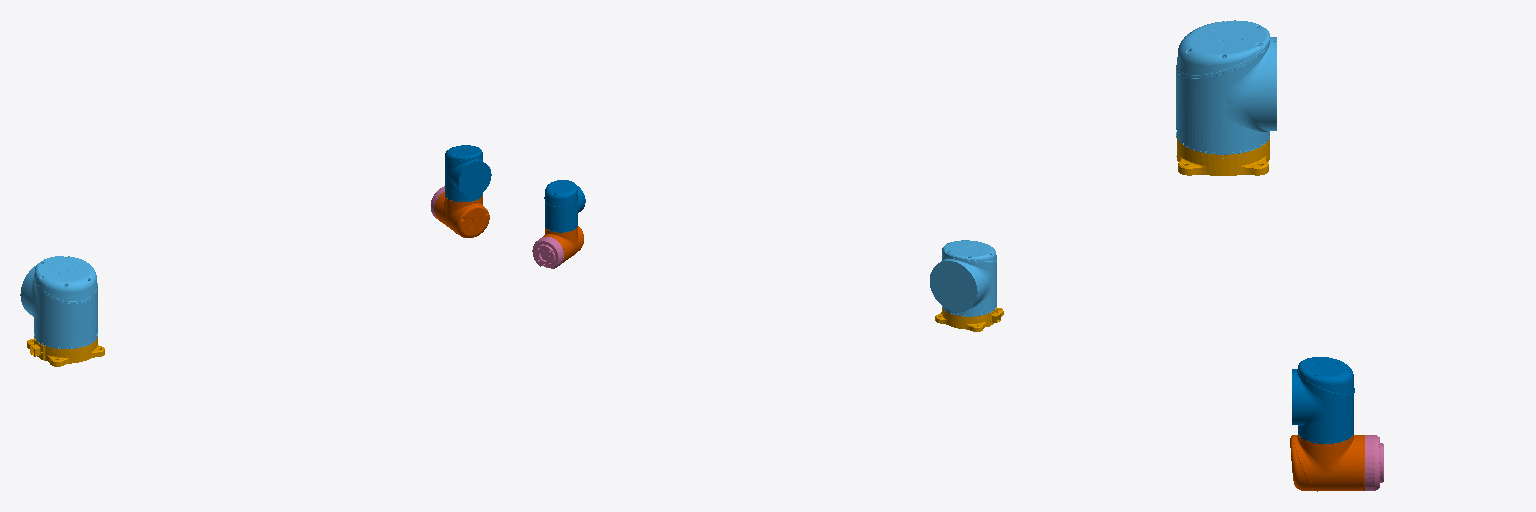
URDF robot description (ur10):
<?xml version="1.0" encoding="utf-8"?>
<robot name="ur10">
    <link name="base_link">
        <collision>
            <origin xyz="0 0 0.02" rpy="0 0 0"/>
            <geometry>
                <cylinder radius="0.075" length="0.03"/>
            </geometry>
        </collision>
        <visual>
            <origin xyz="0 0 0" rpy="0 0 0"/>
            <geometry>
                <mesh filename="../meshes/ur10_base.obj" scale="1 1 1"/>
            </geometry>
        </visual>
        <inertial>
            <mass value="200.0"/>
        </inertial>
    </link>
    <link name="shoulder_link">
        <visual>
            <origin xyz="0 0 -.1273" rpy="0 0 0"/>
            <geometry>
                <mesh filename="../meshes/ur10_shoulder.obj" scale="1 1 1"/>
            </geometry>
        </visual>
        <collision>
            <origin xyz="0 0.0 0.0027000046" rpy="0 0 0"/>
            <geometry>
                <cylinder radius="0.075" length="0.17"/>
            </geometry>
        </collision>
        <collision>
            <origin xyz="0 .0425  0.007000065" rpy="1.57079632679 0 0"/>
            <geometry>
                <cylinder radius="0.075" length="0.085"/>
            </geometry>
        </collision>
        <inertial>
            <mass value="7.1"/>
        </inertial>
    </link>
    <link name="upper_arm_link">
        <visual>
            <origin xyz="-0.0007000065 -0.044941006 0" rpy="0 -1.57079632679 0"/>
            <geometry>
                <mesh filename="../meshes/ur10_upper_arm.obj" scale="1 1 1"/>
            </geometry>
        </visual>
        <collision>
            <origin xyz="-0.0007000065 -0.044941006 0" rpy="1.57079632679 0 0"/>
            <geometry>
                <cylinder radius="0.075" length="0.175"/>
            </geometry>
        </collision>
        <collision>
            <origin xyz="-0.0007000065 -0.044941006 0.306" rpy="0 0 0"/>
            <geometry>
                <cylinder radius="0.06" length="0.612"/>
            </geometry>
        </collision>
        <collision>
            <origin xyz="-0.0007000065 -0.044941006 0.612" rpy="1.57079632679 0 0"/>
            <geometry>
                <cylinder radius="0.06" length="0.136"/>
            </geometry>
        </collision>
        <inertial>
            <mass value="12.7"/>
        </inertial>
    </link>
    <link name="forearm_link">
        <visual>
            <origin xyz="-0.0007000351 -0.0010410404 0" rpy="0 -1.57079632679 0"/>
            <geometry>
                <mesh filename="../meshes/ur10_forearm.obj" scale="1 1 1"/>
            </geometry>
        </visual>
        <collision>
            <origin xyz="-0.0007000351 -0.0041510403 0" rpy="1.57079632679 0 0"/>
            <geometry>
                <cylinder radius="0.06" length="0.126"/>
            </geometry>
        </collision>
        <collision>
            <origin xyz="-0.0007000351 -0.0010410404 0.286" rpy="0 0 0"/>
            <geometry>
                <cylinder radius="0.047" length="0.572"/>
            </geometry>
        </collision>
        <collision>
            <origin xyz="-0.0007000547 0.0017589596 0.572" rpy="1.57079632679 0 0"/>
            <geometry>
                <cylinder radius="0.047" length="0.118"/>
            </geometry>
        </collision>
        <inertial>
            <mass value="4.27"/>
        </inertial>
    </link>
    <link name="wrist_1_link">
        <visual>
            <origin xyz="0.0002999115 0.11495896 -0.0007000637" rpy="-3.14159265359 0 -3.14159265359"/>
            <geometry>
                <mesh filename="../meshes/ur10_wrist_1.obj" scale="1 1 1"/>
            </geometry>
        </visual>
        <collision>
            <origin xyz="0.0002999115 0.08745896 -0.0007000637" rpy="1.57079632679 0 3.14159265359"/>
            <geometry>
                <cylinder radius="0.047" length="0.055"/>
            </geometry>
        </collision>
        <collision>
            <origin xyz="0.0002999115 0.11495896 0.0020999363" rpy="-3.14159265359 0 -3.14159265359"/>
            <geometry>
                <cylinder radius="0.047" length="0.118"/>
            </geometry>
        </collision>
        <inertial>
            <mass value="1.0"/>
        </inertial>
    </link>
    <link name="wrist_2_link">
        <visual>
            <origin xyz="0.0002999115 0.000058994293 0.11529993" rpy="-3.14159265359 0 -3.14159265359"/>
            <geometry>
                <mesh filename="../meshes/ur10_wrist_2.obj" scale="1 1 1"/>
            </geometry>
        </visual>
        <collision>
            <origin xyz="0.0002999115 0.000058994293 0.08829992" rpy="-3.14159265359 0 -3.14159265359"/>
            <geometry>
                <cylinder radius="0.047" length="0.054"/>
            </geometry>
        </collision>
        <collision>
            <origin xyz="0.0002999115 0.0028589943 0.11529993" rpy="1.57079632679 0 3.14159265359"/>
            <geometry>
                <cylinder radius="0.047" length="0.118"/>
            </geometry>
        </collision>
        <inertial>
            <mass value="1.0"/>
        </inertial>
    </link>
    <link name="wrist_3_link">
        <visual>
            <origin xyz="0.0002999115 0.09205898 -0.00040007472" rpy="-3.14159265359 0 -3.14159265359"/>
            <geometry>
                <mesh filename="../meshes/ur10_wrist_3.obj" scale="1 1 1"/>
            </geometry>
        </visual>
        <collision>
            <origin xyz="0.0002999115 0.077058983 -0.00040007472" rpy="1.57079632679 0 -3.14159265359"/>
            <geometry>
                <cylinder radius="0.047" length="0.03"/>
            </geometry>
        </collision>
        <inertial>
            <mass value="0.365"/>
        </inertial>
    </link>
    <joint name="shoulder_pan_joint" type="revolute">
        <origin rpy="0 0 0" xyz="0 0 0.1273"/>
        <axis xyz="0 0 1" />
        <limit upper="6.28318" lower="-6.28318" velocity="2.0944" effort="330" />
        <parent link="base_link" />
        <child link ="shoulder_link" />
    </joint>
    <joint name="shoulder_lift_joint" type="revolute">
        <origin rpy="0.0 1.5707963267948966 0.0" xyz="0.0 0.220941 0.0"/>
        <axis xyz="0 1 0" />
        <limit upper="6.28318" lower="-6.28318" velocity="2.0944" effort="330.0" />
        <parent link ="shoulder_link" />
        <child link="upper_arm_link" />
    </joint>
    <joint name="elbow_joint" type="revolute">
        <origin rpy="0.0 0.0 0.0" xyz="0.0 -0.1719 0.612"/>
        <axis xyz="0 1 0" />
        <limit upper="6.28318" lower="-6.28318" velocity="3.14159" effort="150.0" />
        <parent link ="upper_arm_link" />
        <child link="forearm_link" />
    </joint>
    <joint name="wrist_1_joint" type="revolute">
        <origin rpy="0.0 1.5707963267948966 0.0" xyz="0.0 0.0 0.5723"/>
        <axis xyz="0 1 0" />
        <limit upper="6.28318" lower="-6.28318" velocity="3.14159" effort="56.0" />
        <parent link ="forearm_link" />
        <child link="wrist_1_link" />
    </joint>
    <joint name="wrist_2_joint" type="revolute">
        <origin rpy="0.0 0.0 0.0" xyz="0.0 0.1149 0.0"/>
        <axis xyz="0 0 1"/>
        <limit upper="6.28318" lower="-6.28318" velocity="3.14159" effort="56.0" />
        <parent link ="wrist_1_link" />
        <child link="wrist_2_link" />
    </joint>
    <joint name="wrist_3_joint" type="revolute">
        <origin rpy="0.0 0.0 0.0" xyz="0.0 0.0 0.1157"/>
        <axis xyz="0 1 0" />
        <limit upper="6.28318" lower="-6.28318" velocity="3.14159" effort="56.0" />
        <parent link ="wrist_2_link" />
        <child link="wrist_3_link" />
    </joint>
    <joint name="ee_fixed_joint" type="fixed">
        <parent link="wrist_3_link"/>
        <child link="ee_link"/>
        <origin rpy="0.0 0.0 1.5707963267948966" xyz="0.0 0.0922 0.0"/>
    </joint>
    <link name="ee_link">
        <collision>
            <geometry>
                <box size="0.01 0.01 0.01"/>
            </geometry>
            <origin rpy="0 0 0" xyz="-0.01 0 0"/>
        </collision>
    </link>
</robot>

--- Facts derived from the render (not from the file) ---
The picture shows the robot from 3 angles, left to right: view 1: azimuth 30°, elevation 25°; view 2: azimuth 150°, elevation 25°; view 3: azimuth 270°, elevation 25°; orthographic projection.
Model ur10 with 8 links and 7 joints (6 revolute, 1 fixed), rooted at base_link, posed all joints at 0.
Links seen in each view (by area): view 1: shoulder_link, wrist_1_link, wrist_2_link, base_link; view 2: shoulder_link, wrist_1_link, base_link, wrist_3_link, wrist_2_link; view 3: shoulder_link, wrist_1_link, wrist_2_link, base_link, wrist_3_link.
Link boxes in pixels (x1,y1,x2,y2): shoulder_link: (20, 256, 97, 348); wrist_1_link: (445, 145, 491, 201); wrist_2_link: (434, 191, 489, 237); base_link: (27, 337, 104, 366); shoulder_link: (930, 240, 996, 316); wrist_1_link: (544, 180, 585, 232); base_link: (935, 307, 1003, 331); wrist_3_link: (532, 237, 563, 268); wrist_2_link: (543, 226, 583, 262); shoulder_link: (1176, 20, 1276, 154); wrist_1_link: (1292, 357, 1354, 443); wrist_2_link: (1290, 435, 1364, 491); base_link: (1176, 136, 1269, 175); wrist_3_link: (1365, 435, 1383, 490).
Size in the robot's own frame: 1.32 by 0.3313 by 0.2491 metres.
5 mesh visuals loaded from 7 distinct referenced files (5 OBJ); not drawn: 2 (reference not matched to a file when rendering).